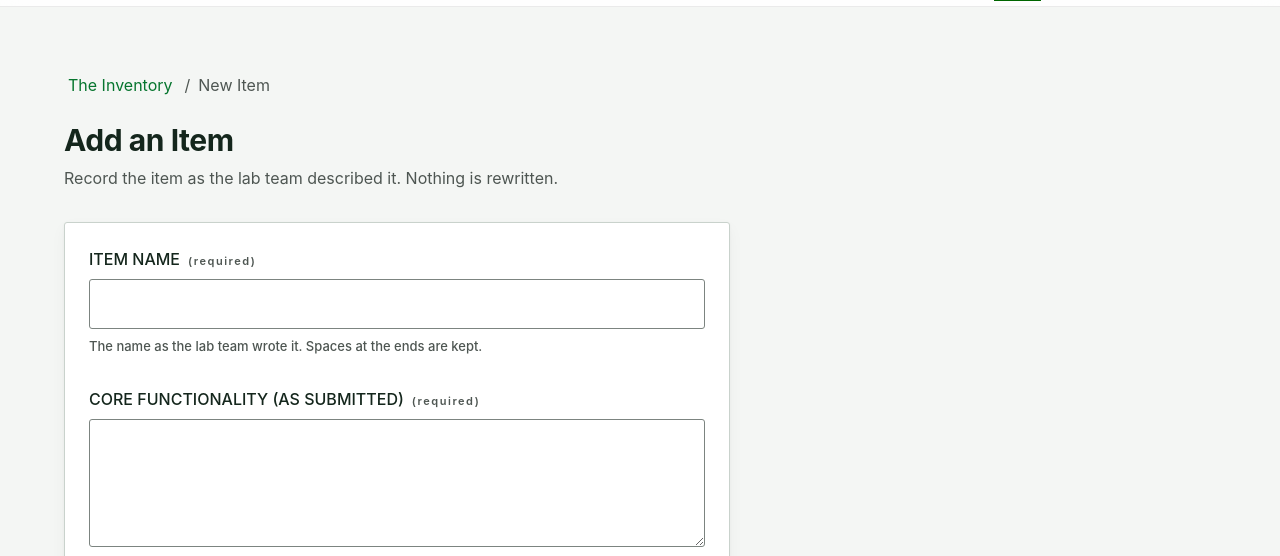
Test: S-05 Challenger Suite — M1 Pre-Agreed Seams › Seam 3: Item Creation, Editing & 409 Condition Validation › Attack 25: displays condition-enum-invalid error banner when backend returns 409 on new item
This screenshot has width=1280, height=556.
Type "Faulty Hub" into the field labelled "ITEM NAME".
click(397, 304); type("Faulty Hub")  # box [89,278,705,328]
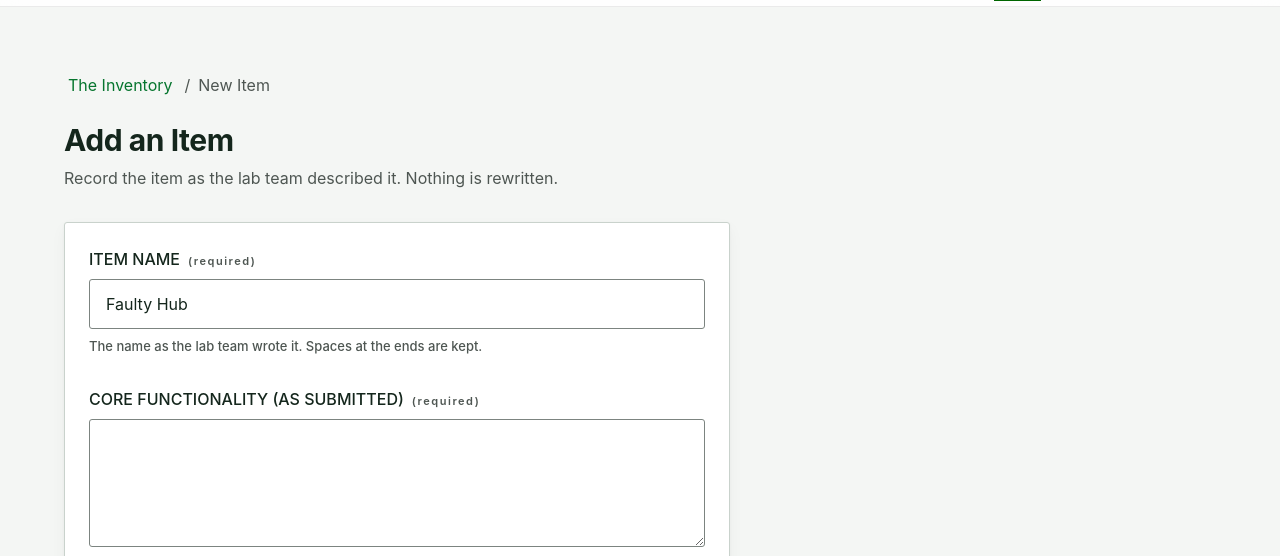
Type "Distributes USB" into the text box labelled "CORE FUNCTIONALITY (AS SUBMITTED)".
click(397, 483); type("Distributes USB")  # box [89,419,705,547]
(page scrolled)
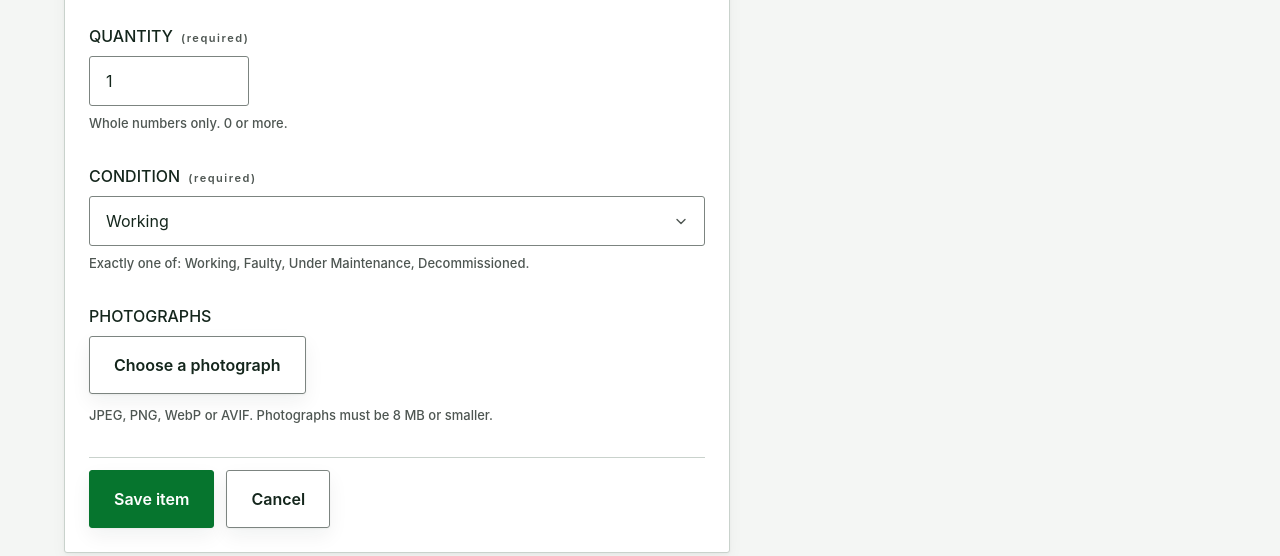
Click the button "Save item".
click(152, 499)  # box [89,470,214,528]
(page scrolled)
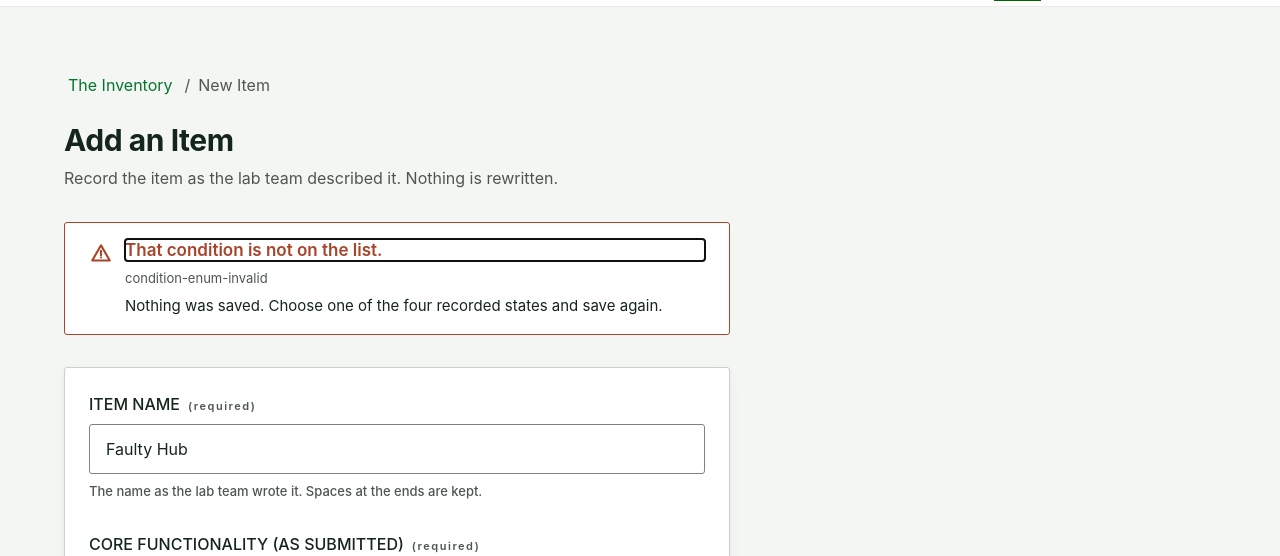
Result: the heading "That condition is not on the list." is shown at [125,240,382,260]
Result: the text "condition-enum-invalid" is shown at [125,270,268,286]
